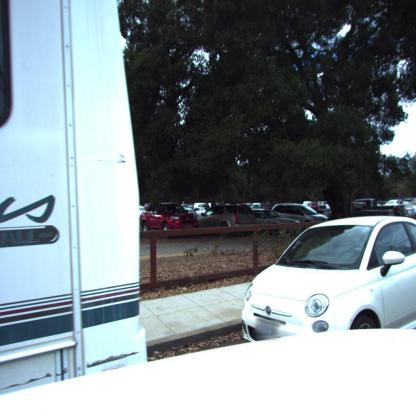bus: (2, 5, 143, 407)
car: (240, 217, 416, 340), (142, 202, 198, 230), (195, 202, 256, 227), (271, 203, 328, 223), (304, 201, 332, 217), (250, 202, 274, 218), (353, 198, 378, 212)
